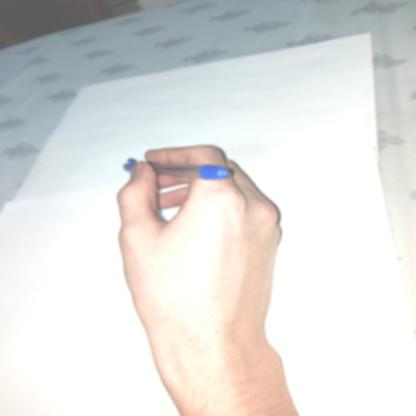Pen: (109, 154, 248, 200)
